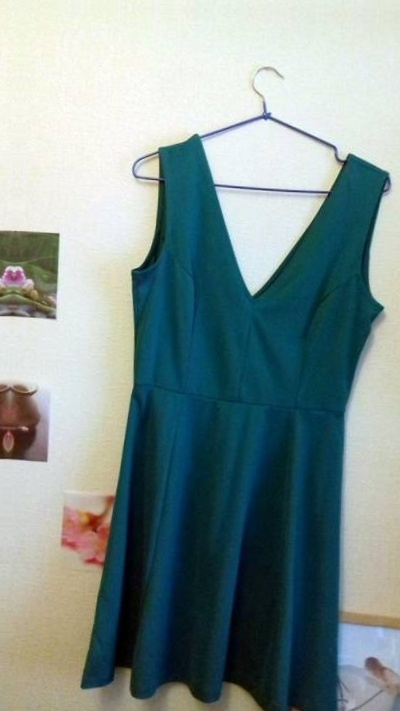Dress: (72, 101, 400, 711)
